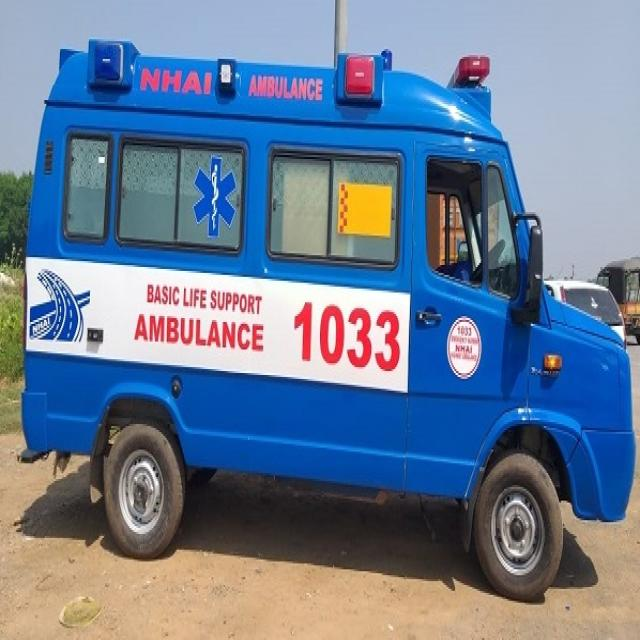emergency: (21, 41, 635, 600)
